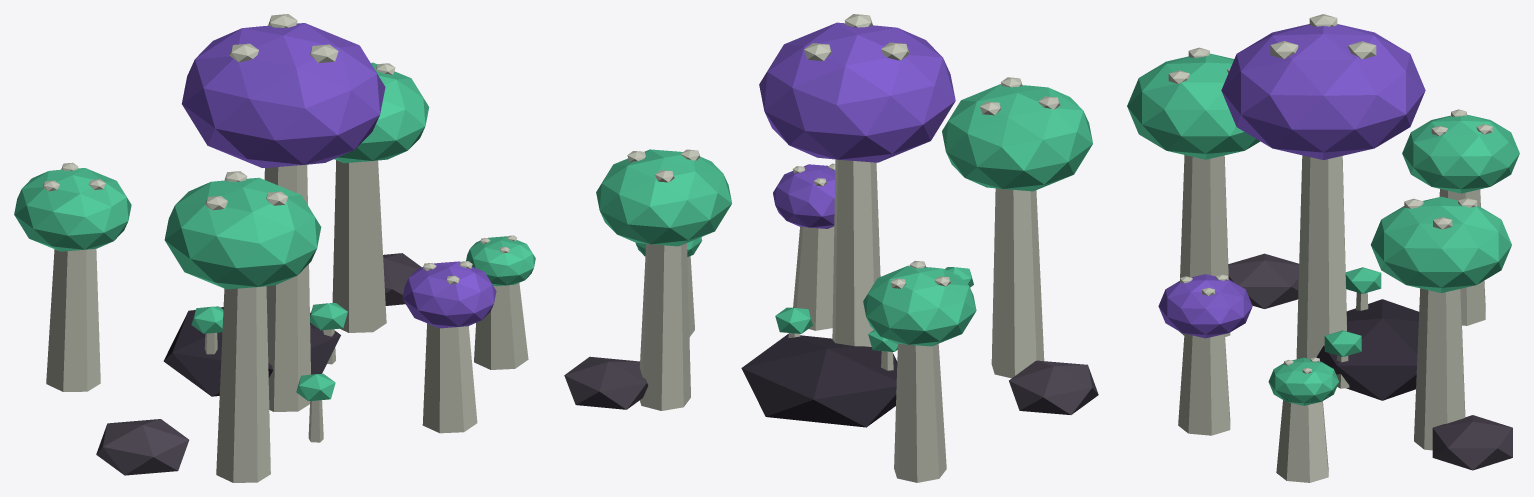
Rendered from Decor_DragonLair_Mushrooms.fbx.
3 renders of one model, left to right at view 1: azimuth 30°, elevation 25°; view 2: azimuth 150°, elevation 25°; view 3: azimuth 270°, elevation 25°, orthographic. The views are drawn at different scales.
Parts seen in each view (by area): view 1: Mushrooms_Body; view 2: Mushrooms_Body; view 3: Mushrooms_Body.
Part boxes in pixels (x1,y1,x2,y2): Mushrooms_Body: (14, 14, 535, 482); Mushrooms_Body: (564, 14, 1098, 482); Mushrooms_Body: (1127, 14, 1519, 482).
Bounding box in the file's own units: 12.4 × 9.76 × 10.
